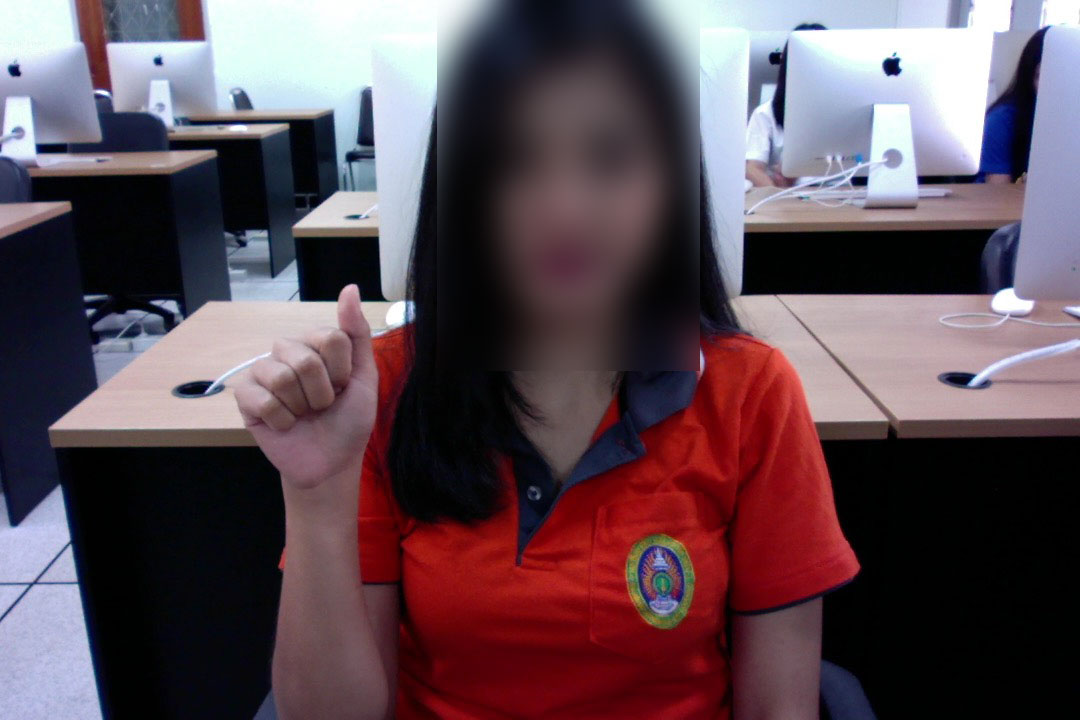or: (228, 275, 384, 511)
